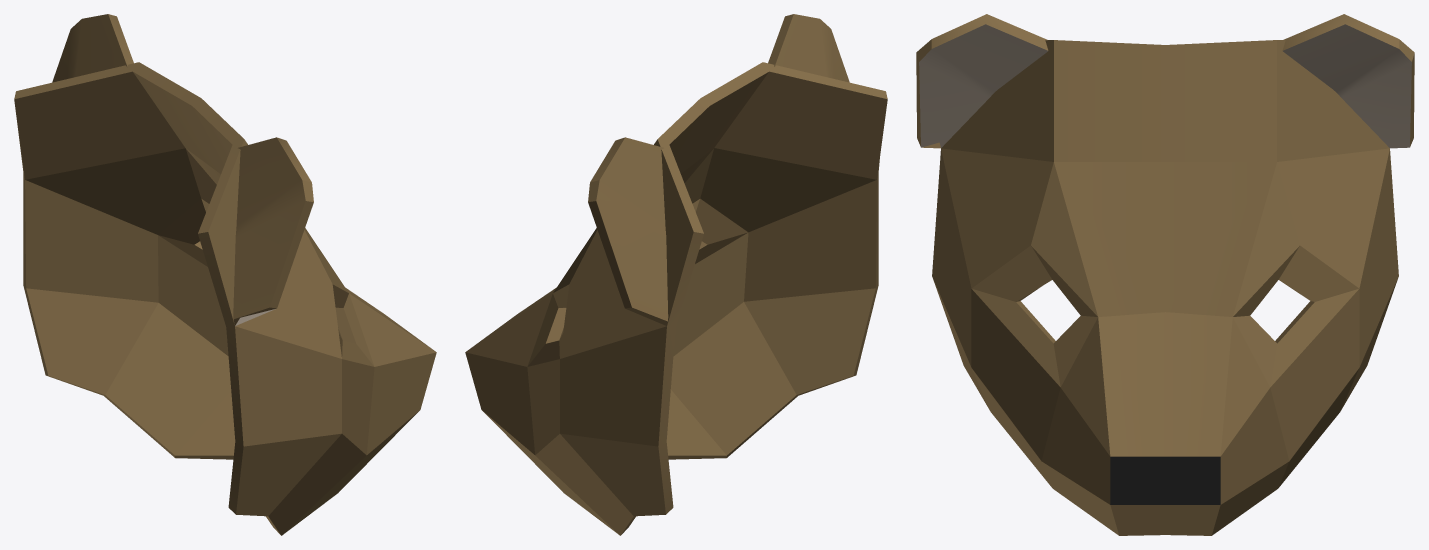
File: mask_ours.fbx
3 renders of one model, left to right at view 1: azimuth 30°, elevation 25°; view 2: azimuth 150°, elevation 25°; view 3: azimuth 270°, elevation 25°, orthographic. The views are drawn at different scales.
Parts seen in each view (by area): view 1: mask_ours; view 2: mask_ours; view 3: mask_ours.
Part boxes in pixels (x1,y1,x2,y2): mask_ours: [14, 14, 436, 535]; mask_ours: [465, 14, 887, 535]; mask_ours: [916, 14, 1414, 535].
Size of the model in its own units: 0.5735 by 0.7765 by 0.766.
